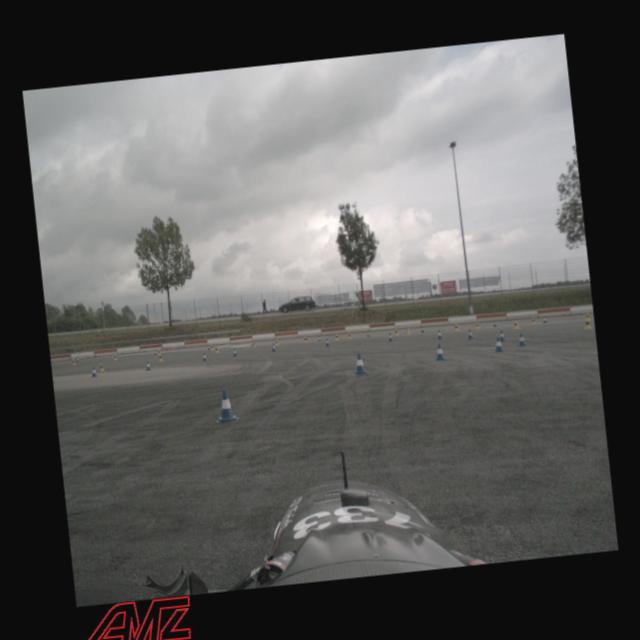blue_cone: (212, 388, 240, 423), (352, 352, 368, 374), (434, 342, 446, 361), (492, 336, 503, 352), (516, 332, 526, 346), (498, 328, 506, 342), (466, 328, 474, 339), (435, 328, 443, 339), (90, 366, 97, 376), (145, 360, 151, 370), (201, 352, 207, 362), (387, 332, 393, 342), (324, 338, 330, 347), (232, 347, 238, 356), (270, 342, 276, 351), (492, 321, 497, 326), (75, 356, 79, 362), (317, 335, 320, 341), (421, 327, 424, 332)
yellow_cone: (582, 317, 592, 329), (512, 318, 518, 329), (98, 362, 104, 370), (453, 323, 459, 331), (157, 354, 163, 362), (302, 335, 308, 343), (70, 358, 76, 366), (347, 332, 352, 340), (394, 328, 398, 337), (112, 352, 116, 361), (214, 345, 218, 353), (274, 338, 278, 346), (406, 328, 411, 334), (334, 334, 338, 341), (475, 321, 479, 328), (530, 316, 534, 322), (366, 332, 369, 336)
